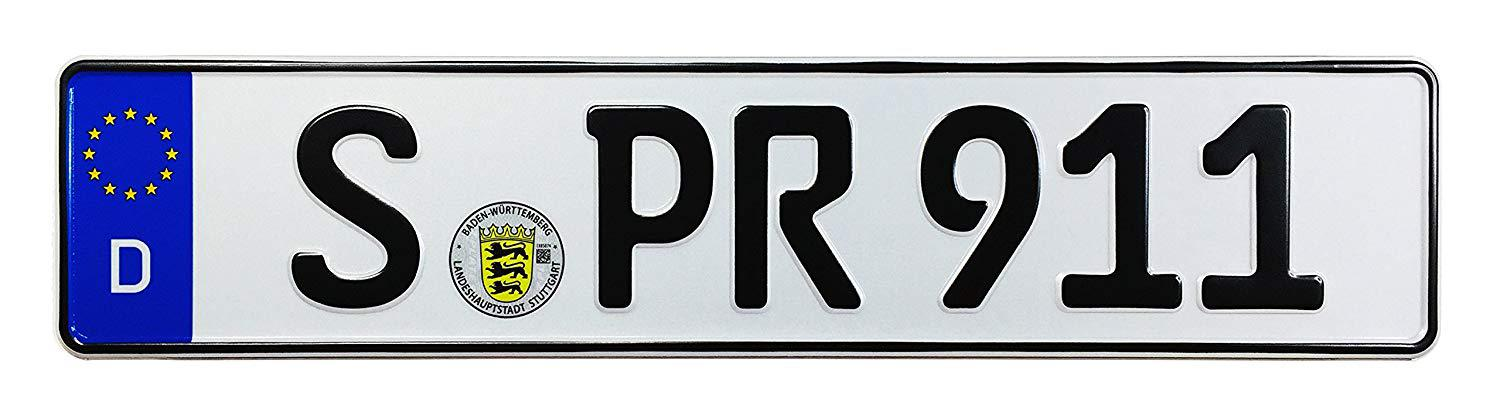1: (1056, 100, 1186, 317), (1199, 101, 1330, 312)
9: (914, 102, 1046, 317)
P: (578, 98, 719, 319)
R: (729, 100, 867, 315)
S: (289, 98, 426, 314)
